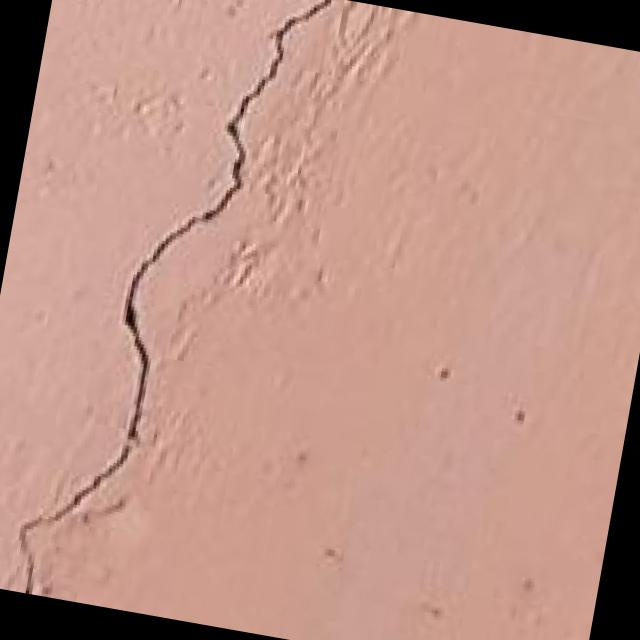crack: (0, 0, 372, 631)
